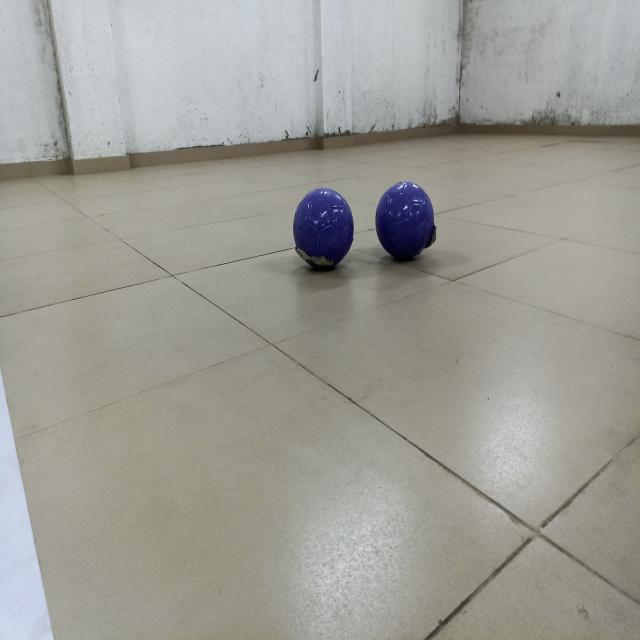purple_ball: (374, 180, 436, 264), (294, 189, 354, 269)
